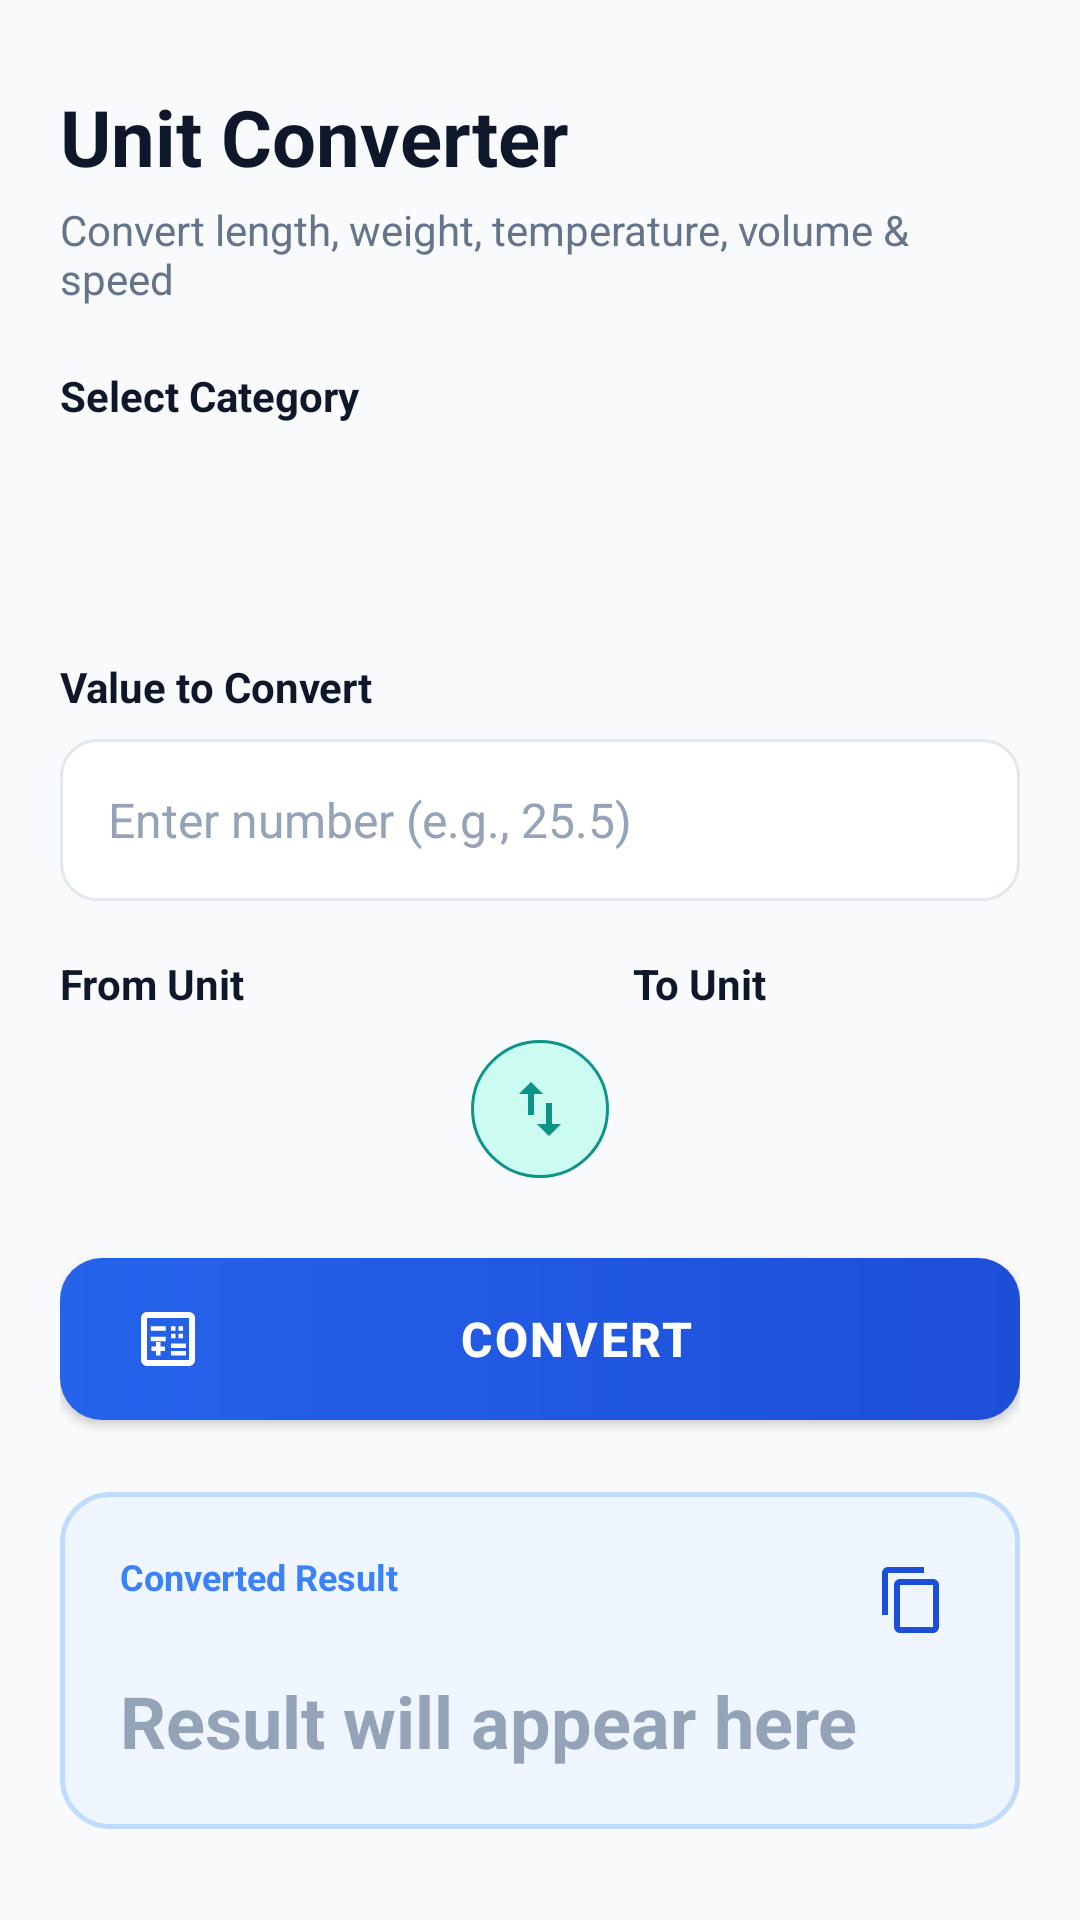

Point at icon controls on the screen. Image size 1080 x 1920, points as (x=x, y=y).
Copy: (x=910, y=1600)
Swap: (x=540, y=1109)
